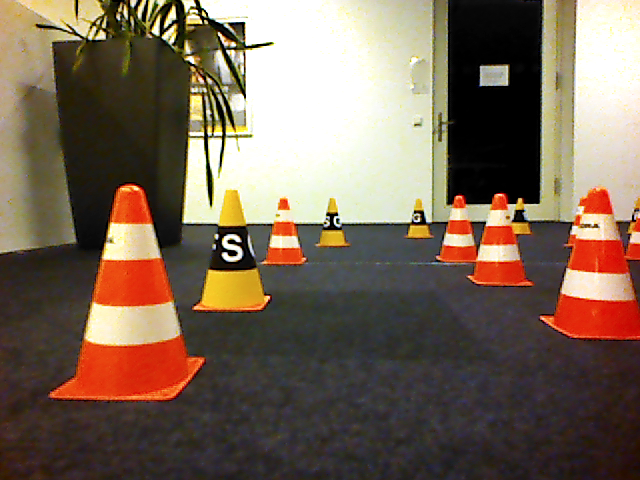orangeconesmall: (48, 183, 201, 401), (544, 188, 640, 340), (472, 193, 534, 289), (261, 196, 310, 266), (436, 195, 476, 263)
yellowcone: (191, 189, 272, 314), (315, 198, 352, 248), (403, 199, 434, 239)
